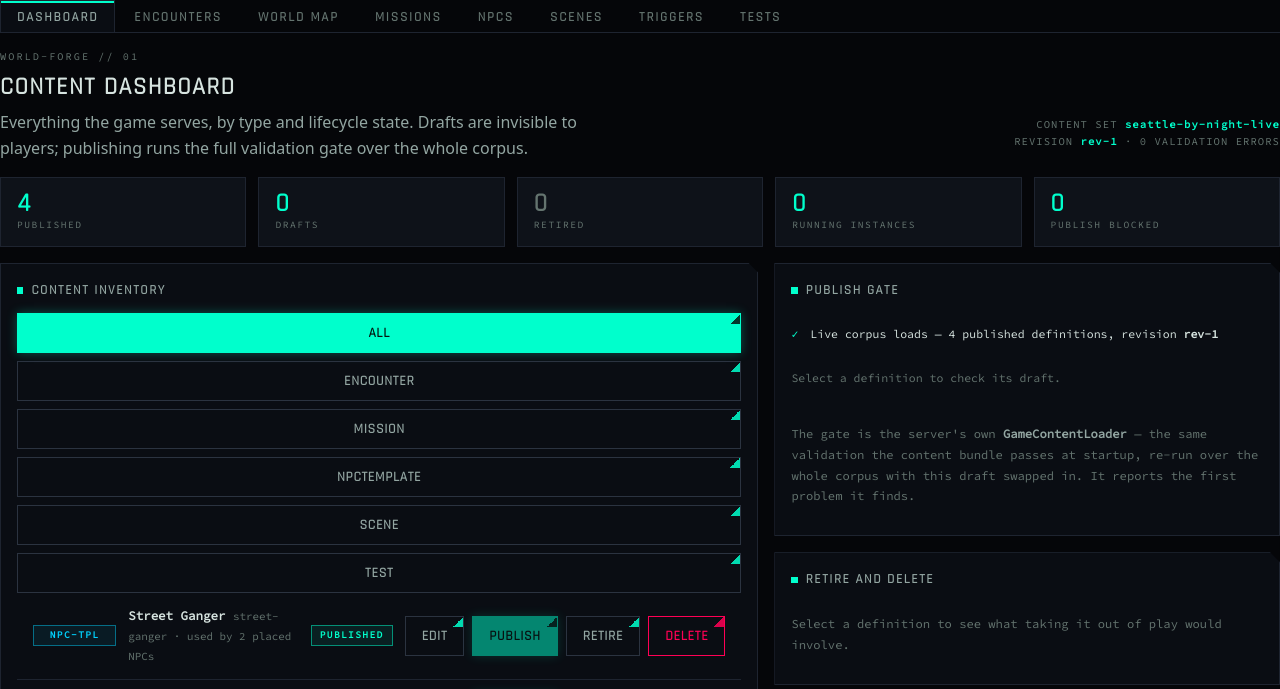
Test case: NPC template editor › warns how many placed NPCs a publish would change
Expected: the text "Street Ganger" is shown, [128,608,226,623]
Click the tab "NPCs" at (496, 16), box [461,0,531,32]
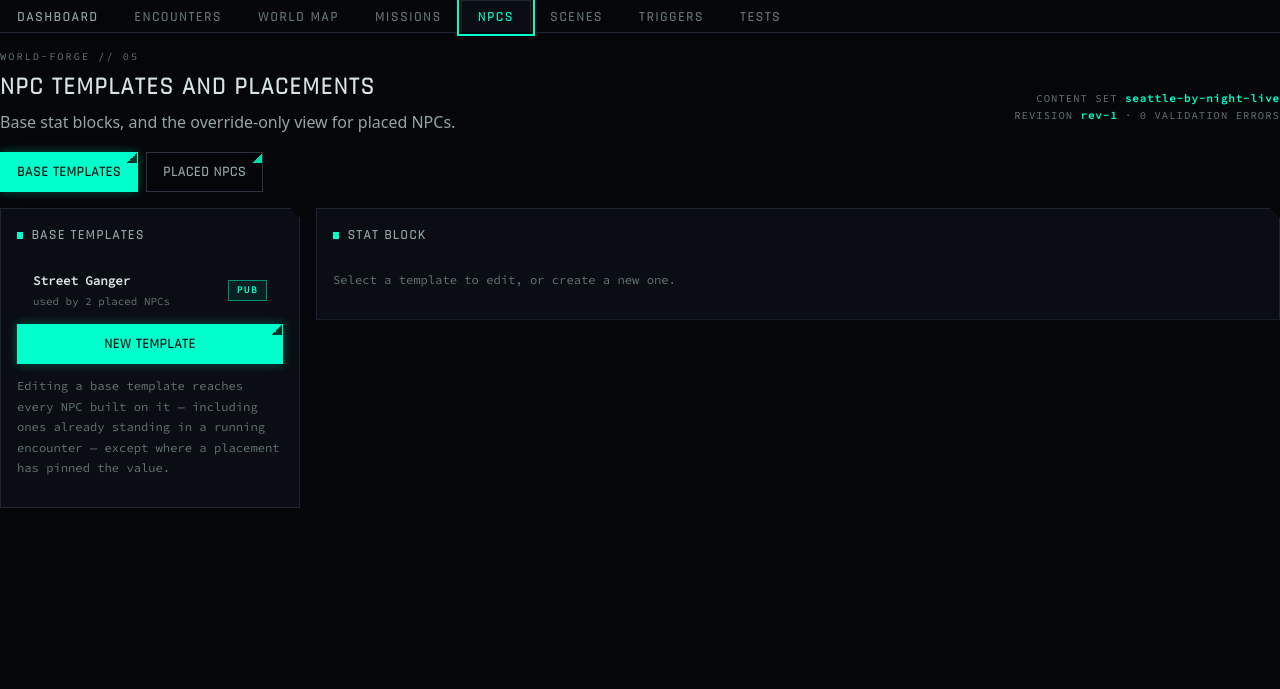
Click the button "Street Ganger" at (124, 291), box [33,267,216,315]
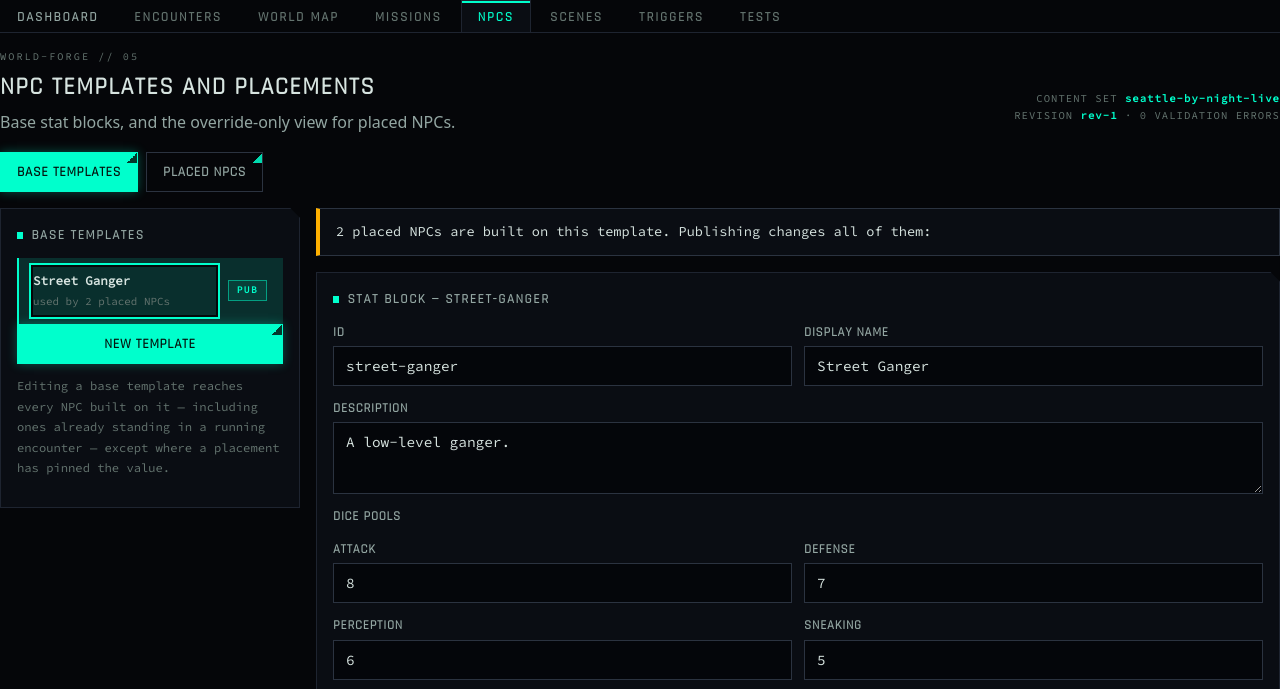
Result: the text "2 placed NPCs are built on this template. Publishing changes all of them:" is shown at [316,208,1279,256]
